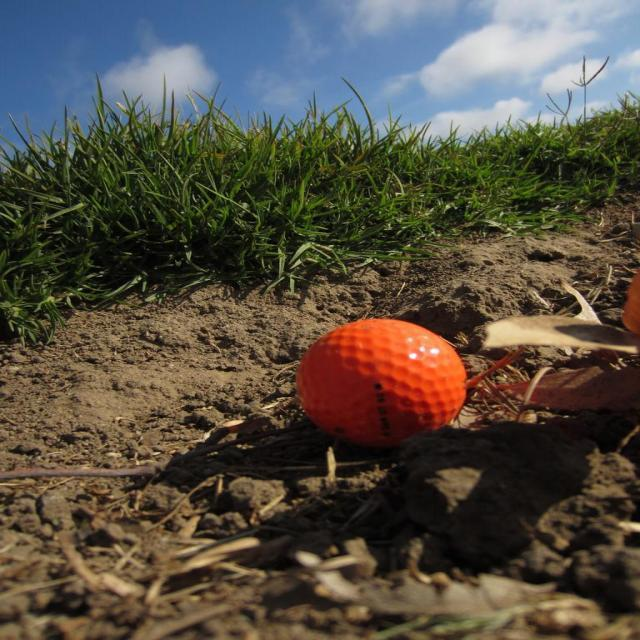GolfBall: (296, 314, 468, 444)
